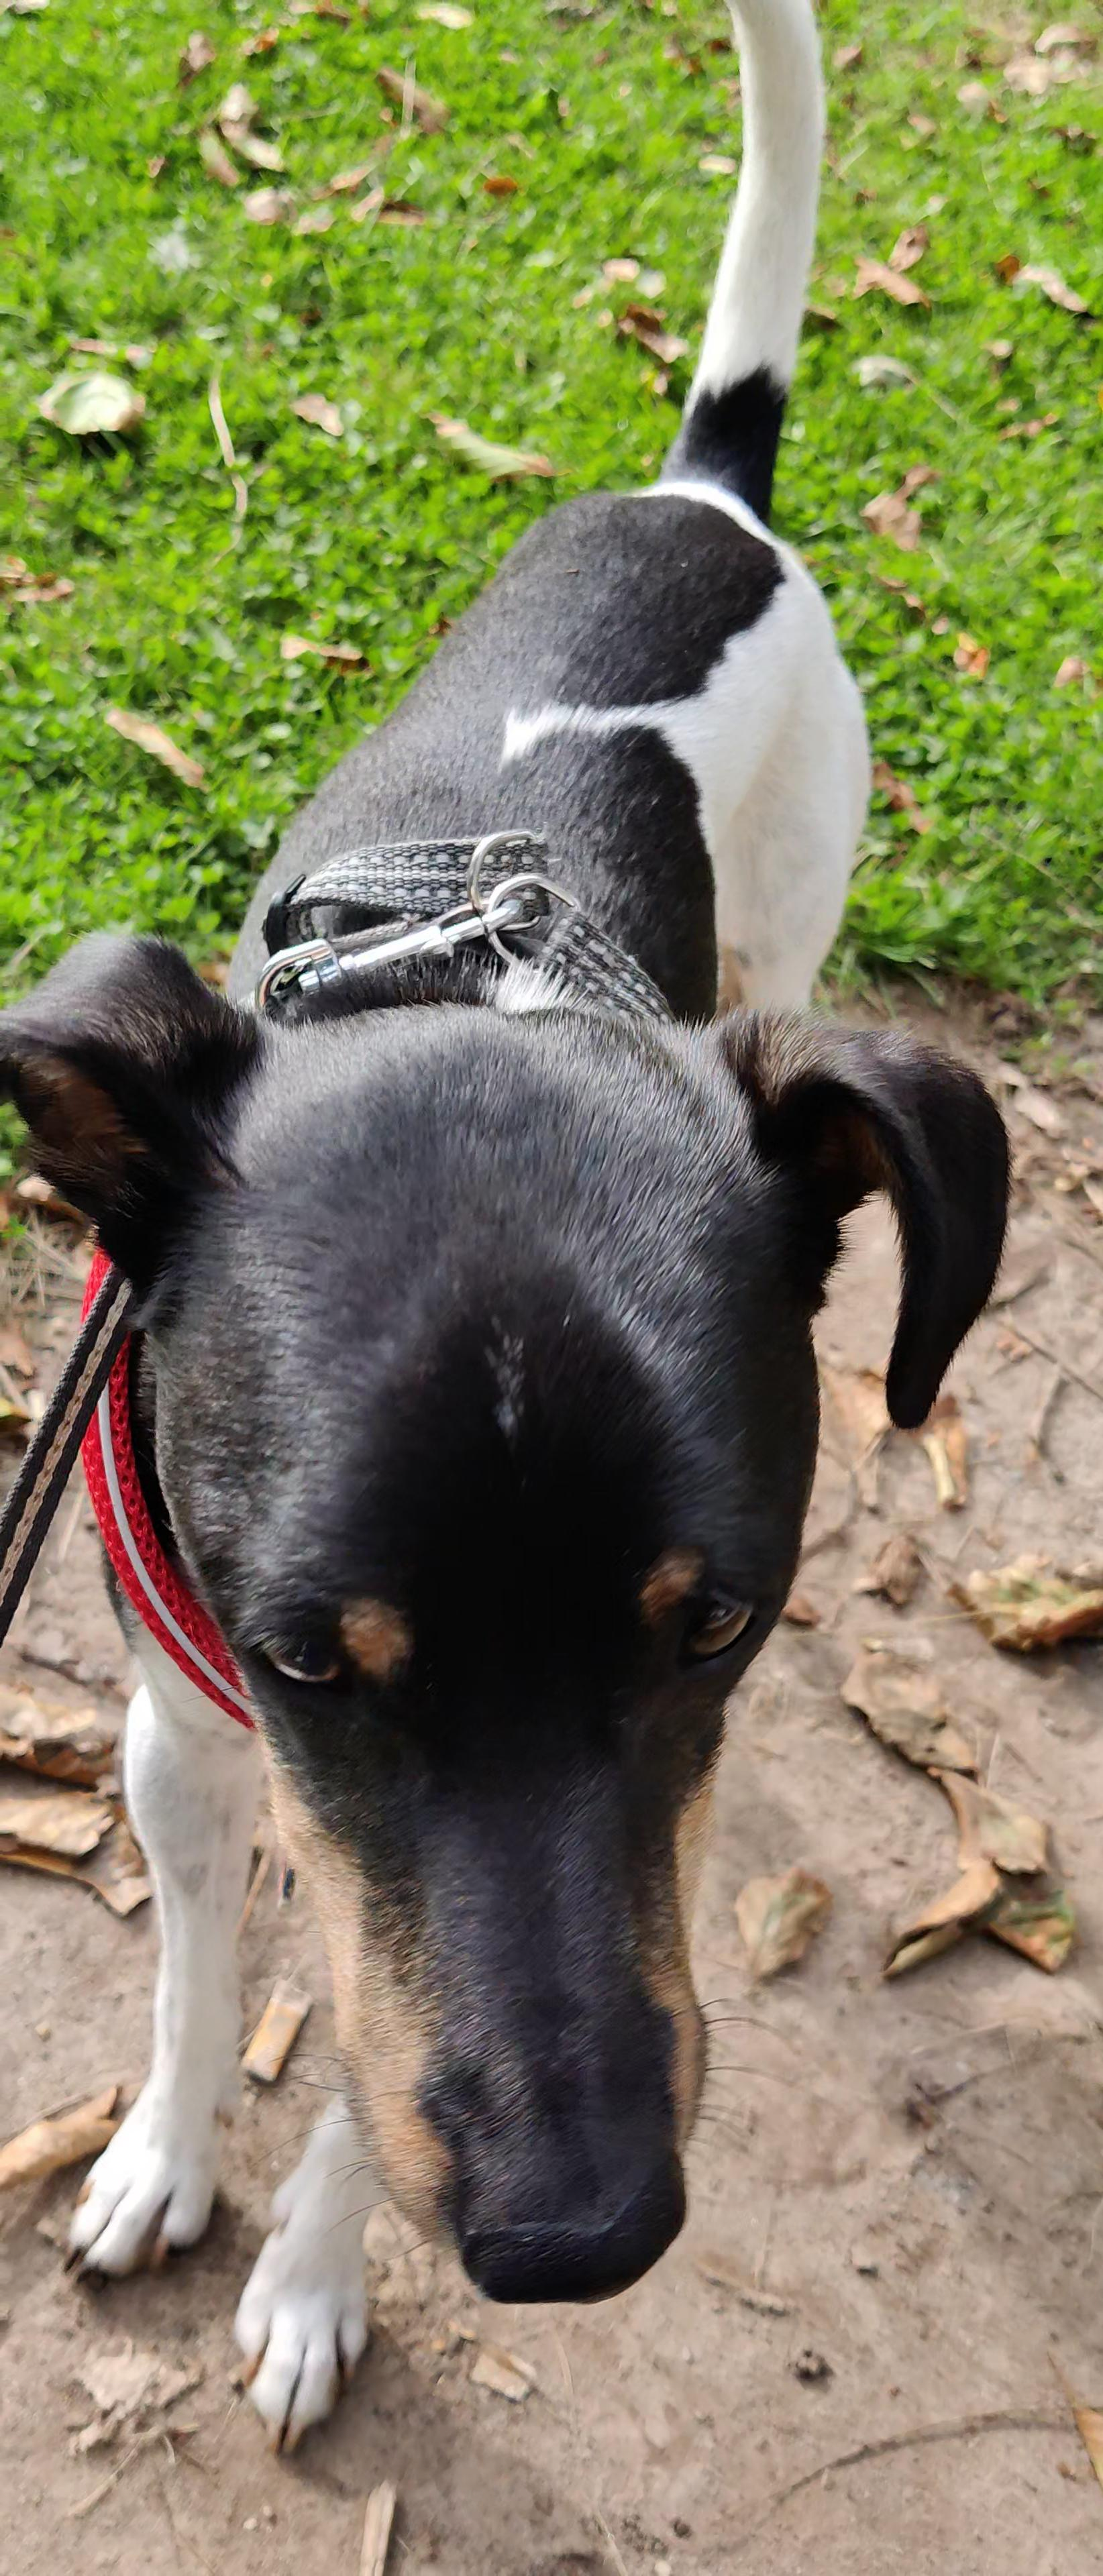Dog: (0, 0, 1039, 2576)
